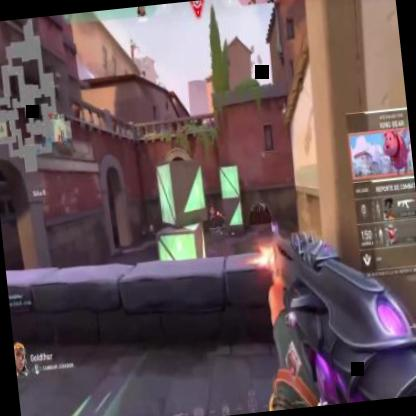enemy: (209, 203, 216, 229)
enemy_head: (210, 204, 212, 209)
